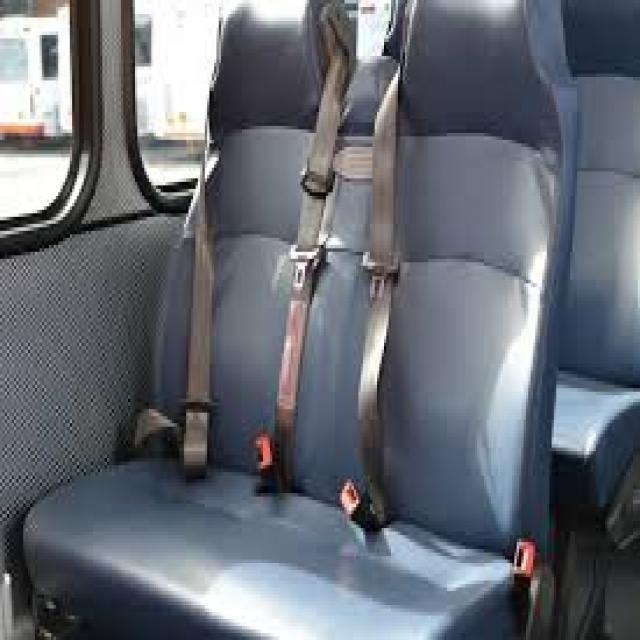seatbelt: (251, 21, 356, 514), (127, 7, 230, 483), (328, 28, 407, 560)
